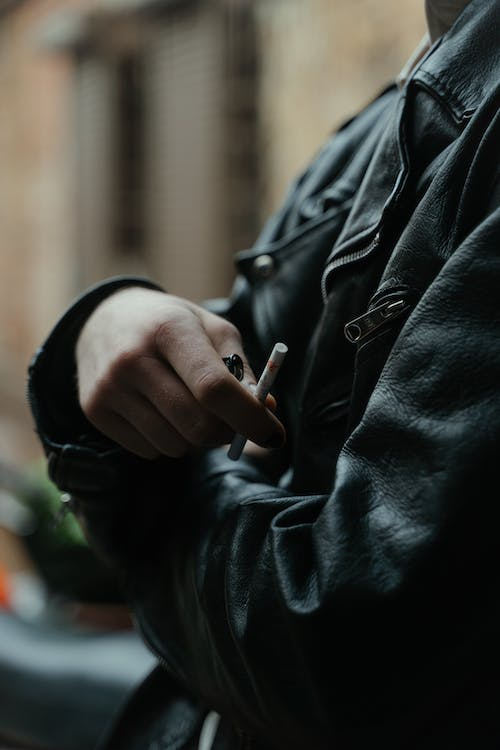cigarette: (224, 339, 290, 463)
